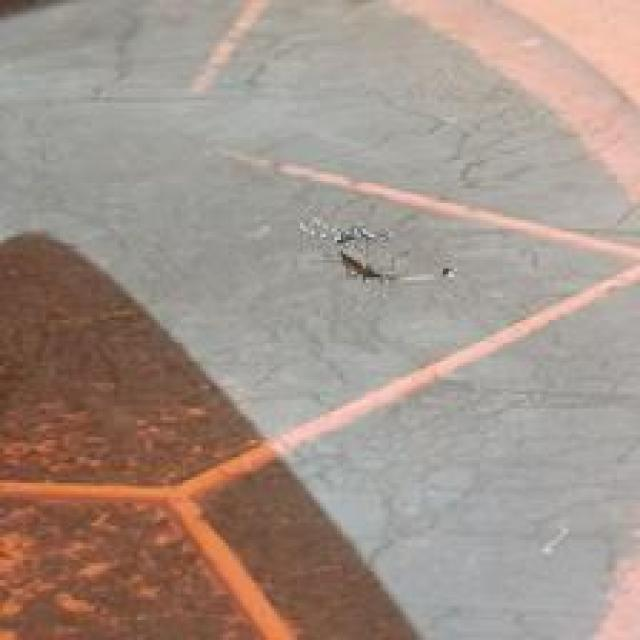Aedes albopictus: (297, 214, 457, 286)
